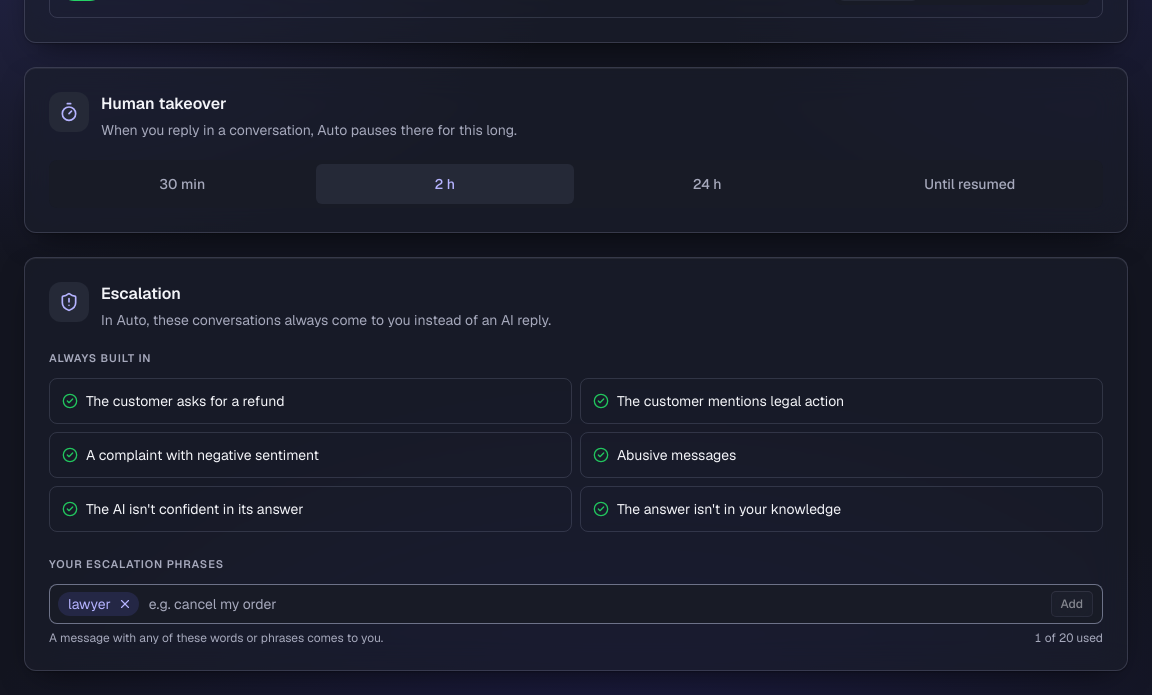
Test: Settings → AI (UX-SCR-07, T5.5) › phrases are removable chips; Add skips a duplicate; Reset undoes (C-066)
(page scrolled)
In the field named "Add to Your escalation phrases": (594, 604) [145,590,1044,618], type "LAWYER"
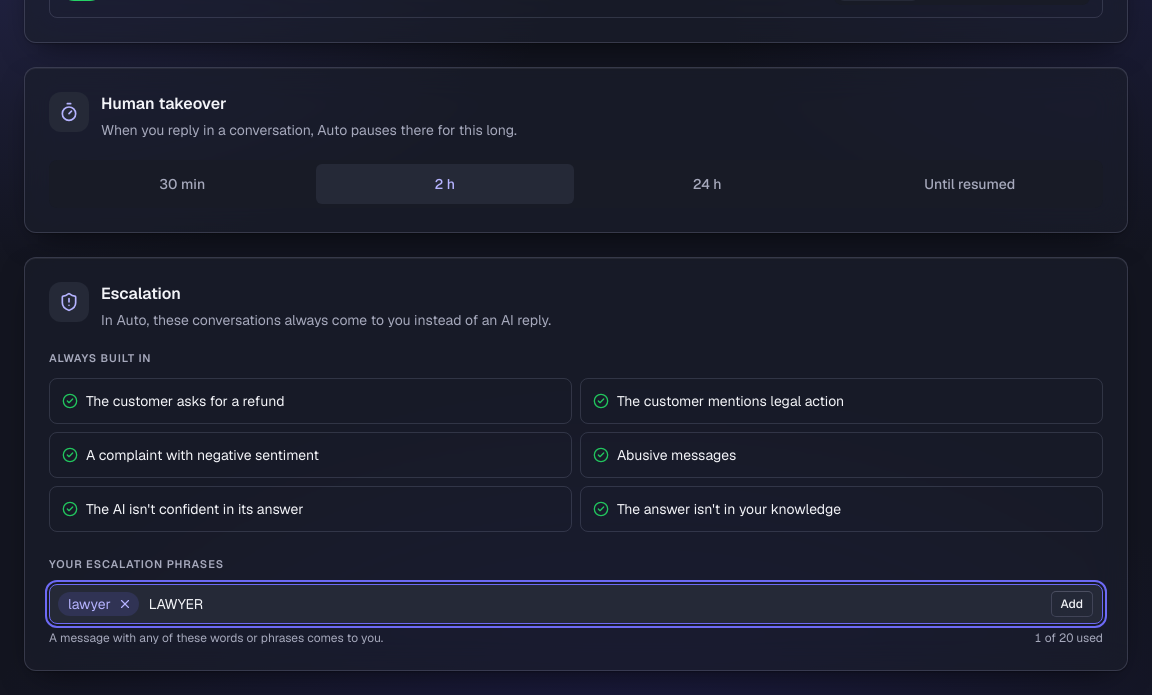
Click the button "Add": (1072, 604) [1050,590,1094,618]
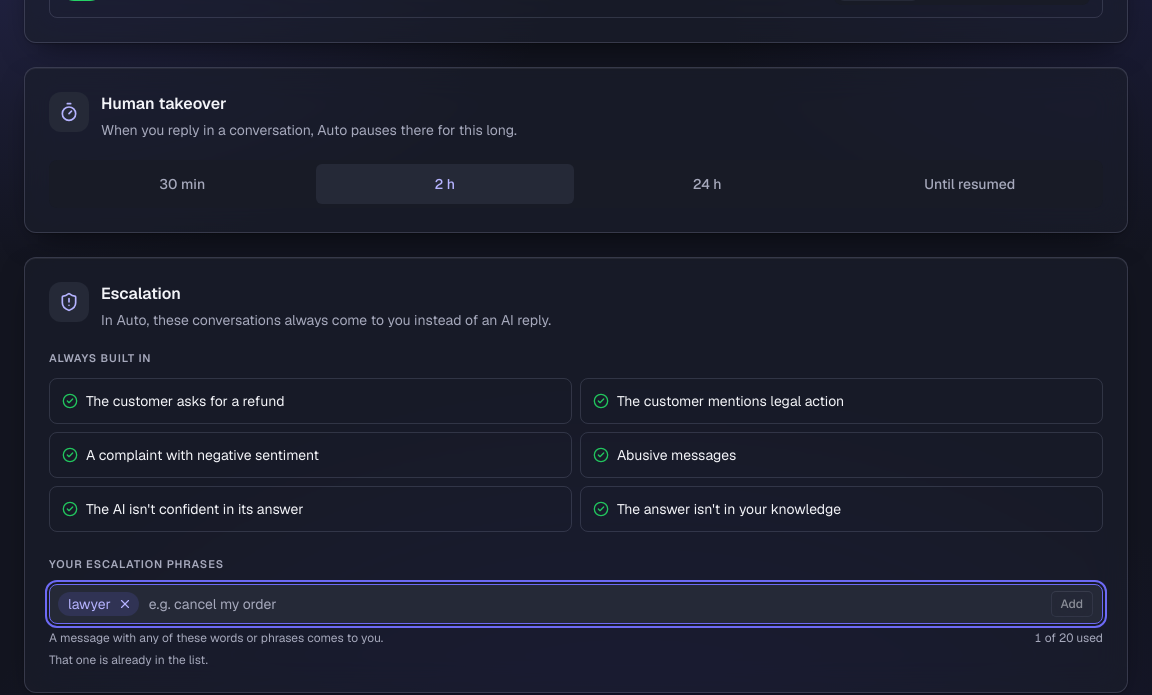
Expected: the text "That one is already in the list." is shown, [49,652,208,668]
Click the button named "Remove lawyer": (125, 604) [115,594,135,614]
(page scrolled)
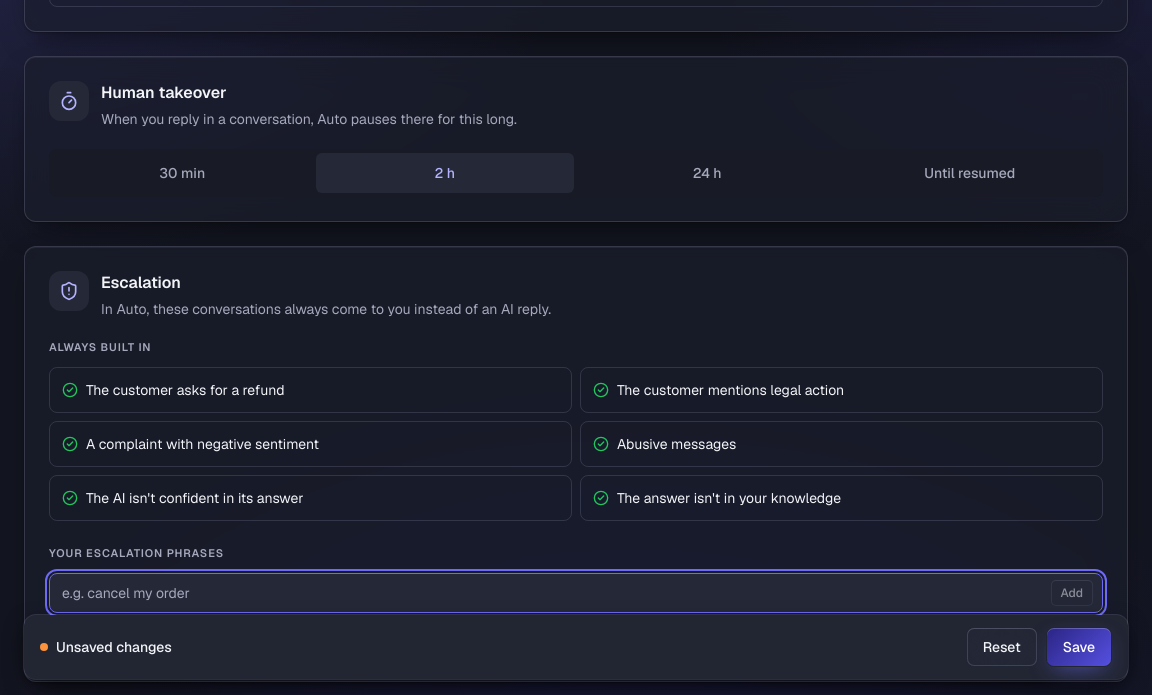
Expected: the text "0 of 20 used" is shown, [1034,619,1103,635]
Click the button "Reset": (1002, 647) [966,627,1038,667]
(page scrolled)
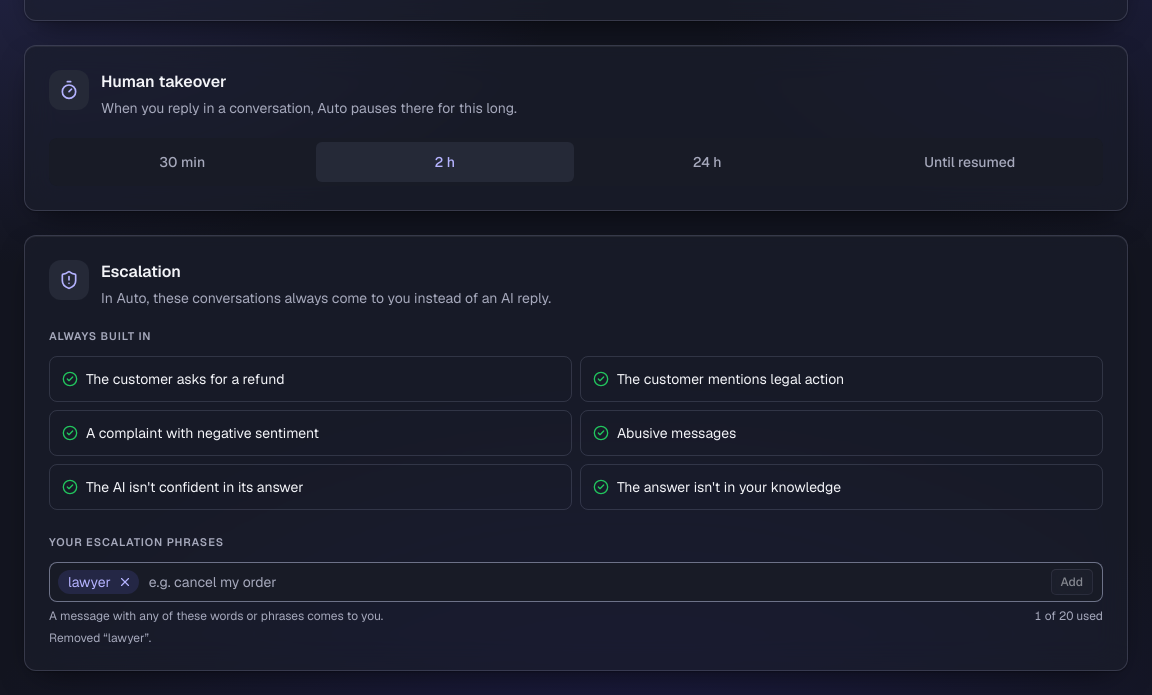
Expected: the button named "Remove lawyer" is shown, [115,572,135,592]
